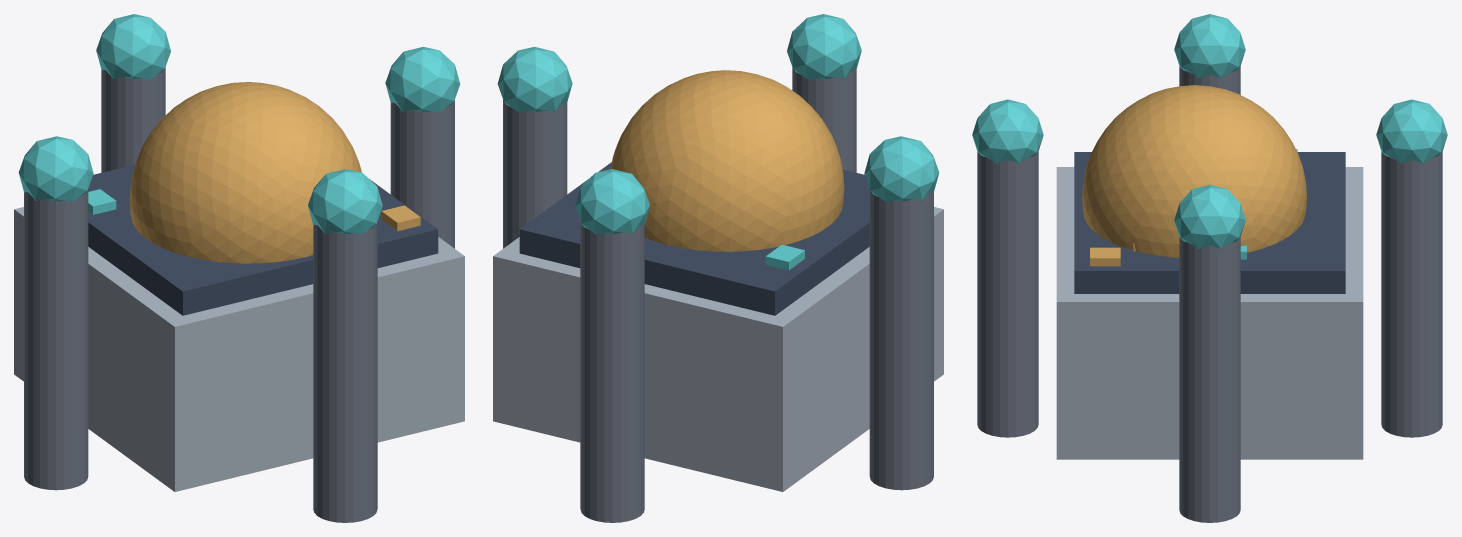
File: modulo-porao-elite.glb
3 renders of one model, left to right at view 1: azimuth 30°, elevation 25°; view 2: azimuth 150°, elevation 25°; view 3: azimuth 270°, elevation 25°, orthographic. The views are drawn at different scales.
Parts seen in each view (by area): view 1: part000, part002, part006, part008, part001, part004, part010, part005, part007, part011, part009, part014 (+1 smaller); view 2: part000, part002, part010, part008, part001, part004, part005, part011, part007, part009, part006, part018; view 3: part000, part002, part006, part010, part004, part001, part007, part011, part009, part005, part008, part014.
Part boxes in pixels (x1,y1,x2,y2): part000: (14,207,464,491); part002: (129,82,361,263); part006: (313,221,377,522); part008: (24,189,88,490); part001: (88,164,438,315); part004: (390,100,454,248); part010: (101,67,165,172); part005: (385,46,460,112); part007: (308,169,382,234); part011: (96,14,170,79); part009: (18,136,93,201); part014: (381,205,420,231); part000: (493,207,943,491); part002: (610,70,844,251); part010: (580,221,644,522); part008: (869,189,933,490); part001: (519,162,869,315); part004: (503,100,567,248); part005: (497,46,572,112); part011: (575,169,649,234); part007: (787,14,861,79); part009: (864,136,939,201); part006: (792,67,856,172); part018: (765,244,804,270); part000: (1056,167,1363,459); part002: (1082,85,1306,257); part006: (977,151,1038,437); part010: (1381,151,1442,437); part004: (1179,237,1240,522); part001: (1074,152,1345,293); part007: (972,99,1043,163); part011: (1376,99,1447,163); part009: (1174,14,1245,78); part005: (1174,185,1245,248); part008: (1179,66,1240,94); part014: (1090,247,1120,266).
Size of the model in its own units: 1.86 by 1.42 by 1.86.
